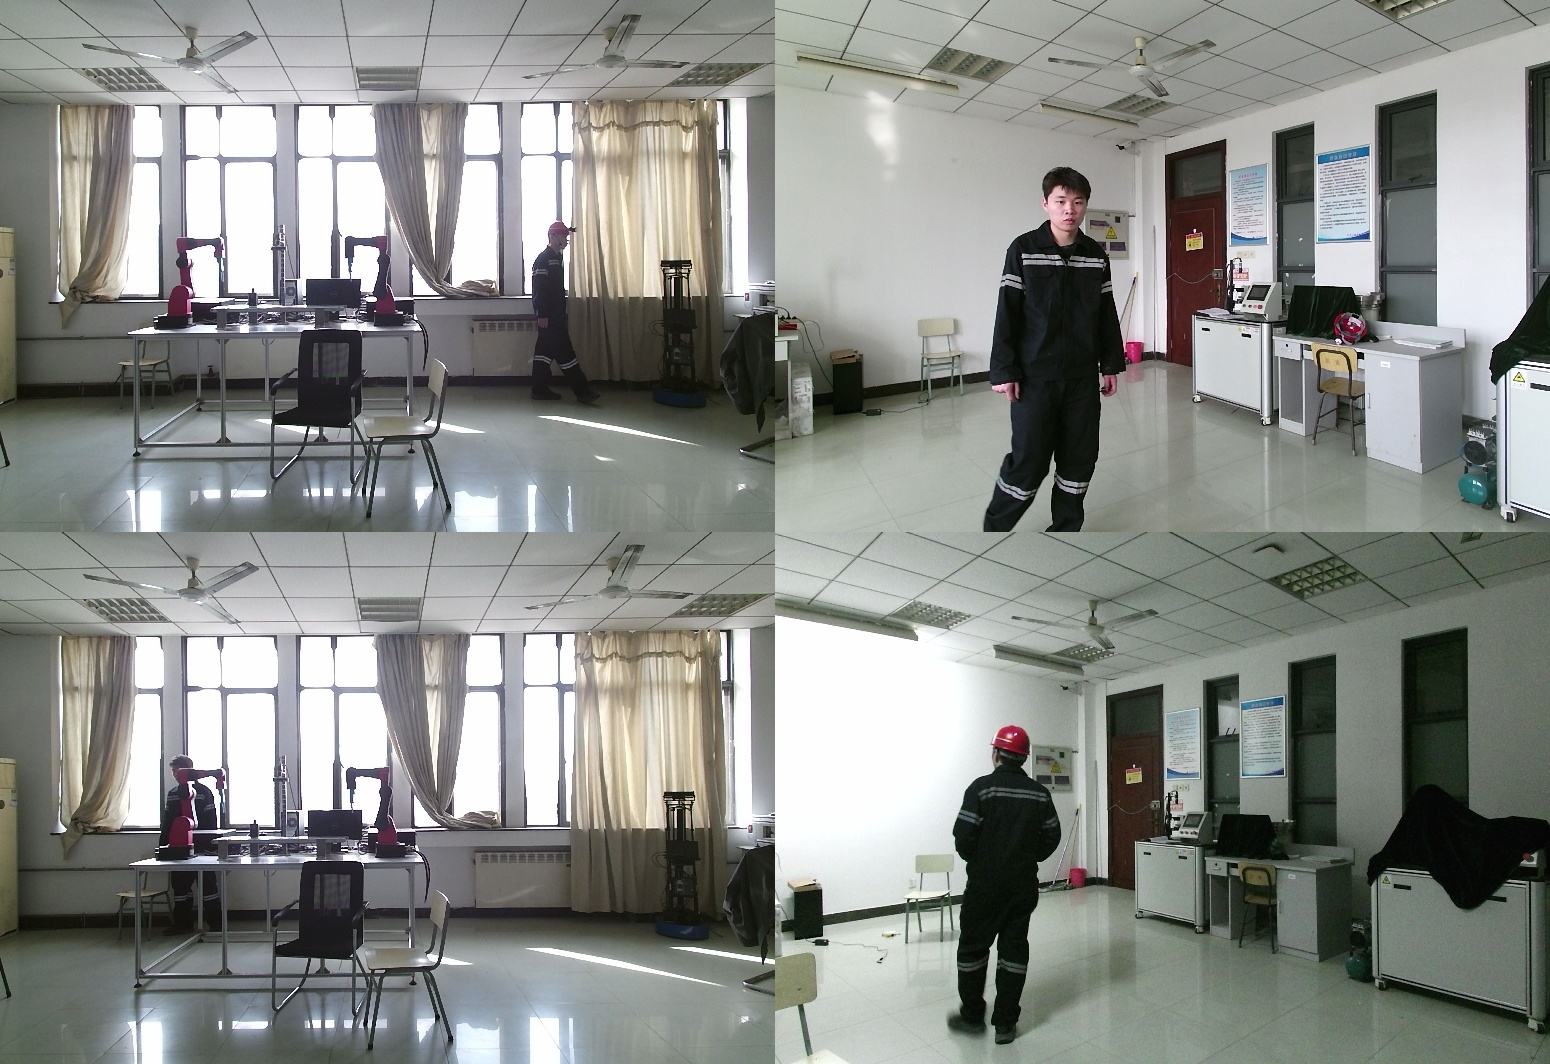person: (972, 167, 1122, 532), (955, 723, 1078, 1056), (157, 755, 226, 943), (534, 224, 602, 412)
